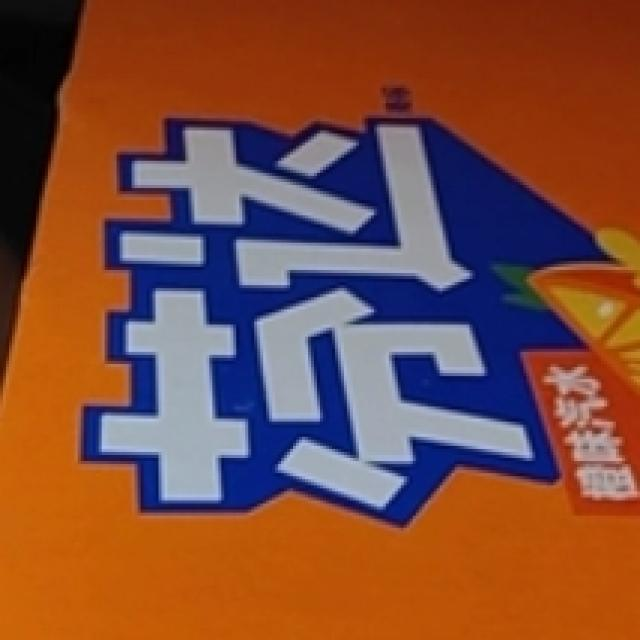orange: (75, 93, 634, 544)
